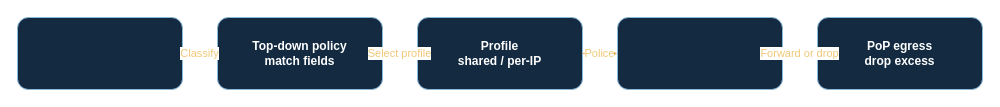
Some shapes in this 1000 by 107 pixel diagram are drawn without their labels. Here are the shapes that lost their labels. From the top down, the box of each, then its label:
(16, 16, 182, 90): IPsec agent tunnel traffic
(616, 16, 782, 90): Policer direction + rate
